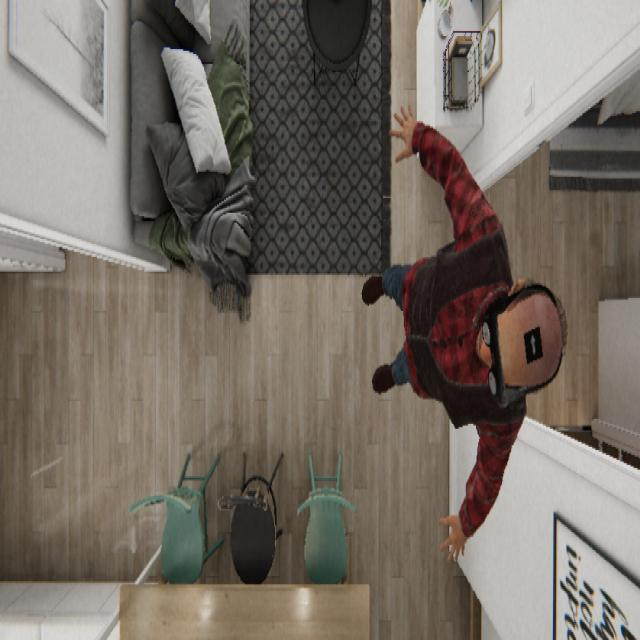Human: (360, 101, 568, 564)
UnityLogo: (489, 278, 566, 408), (522, 321, 544, 365)
